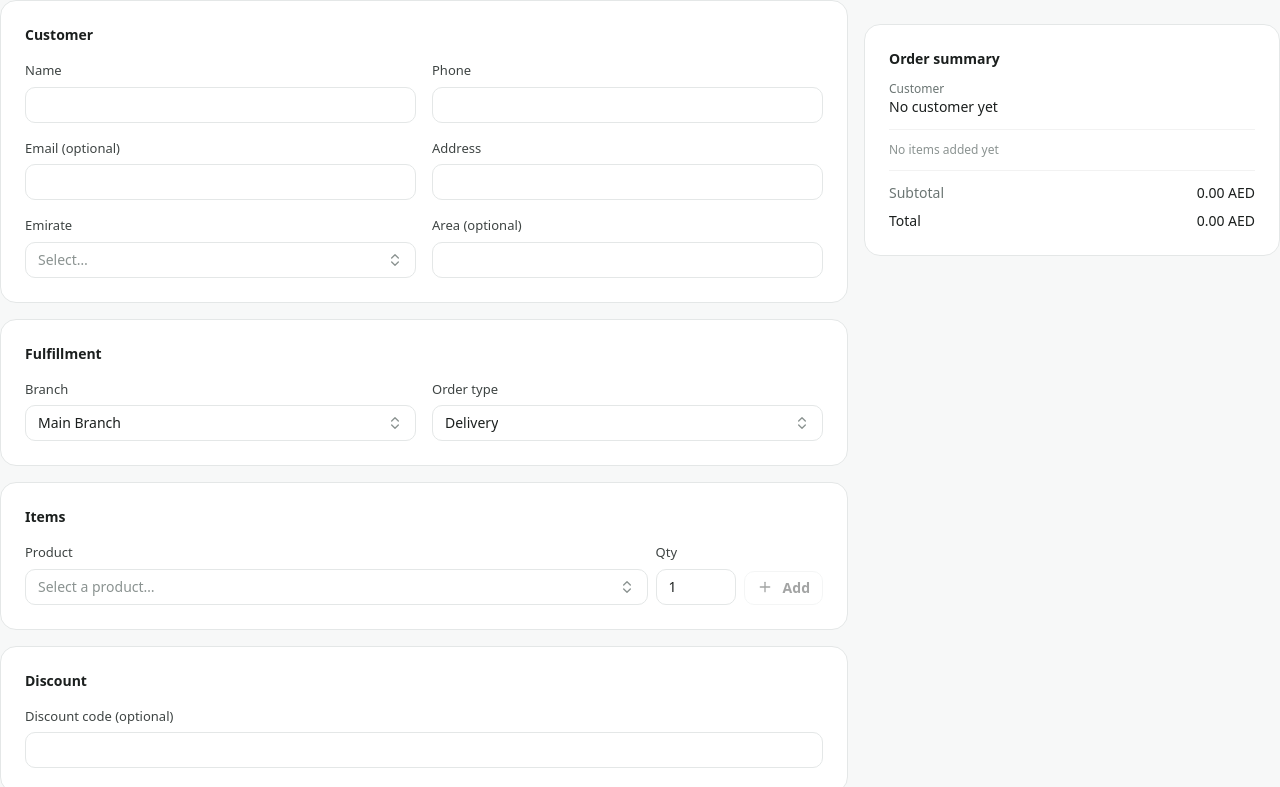
DraftOrderBuilder › adds an item via the Product combobox
Click the dropdown labelled "Select a product…". click: (96, 586)
box: x1=25 y1=568 x2=648 y2=604
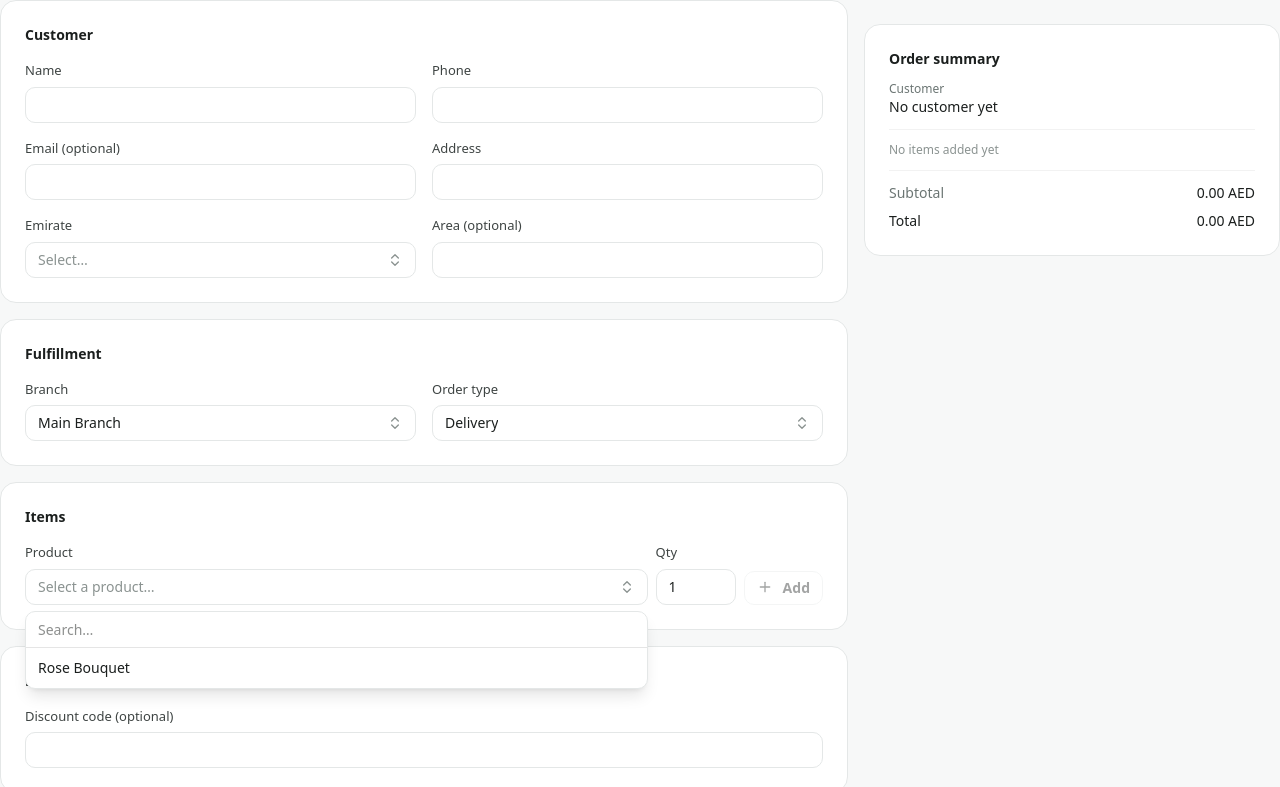
Click the option "Rose Bouquet". click: (84, 667)
box: x1=26 y1=652 x2=647 y2=684
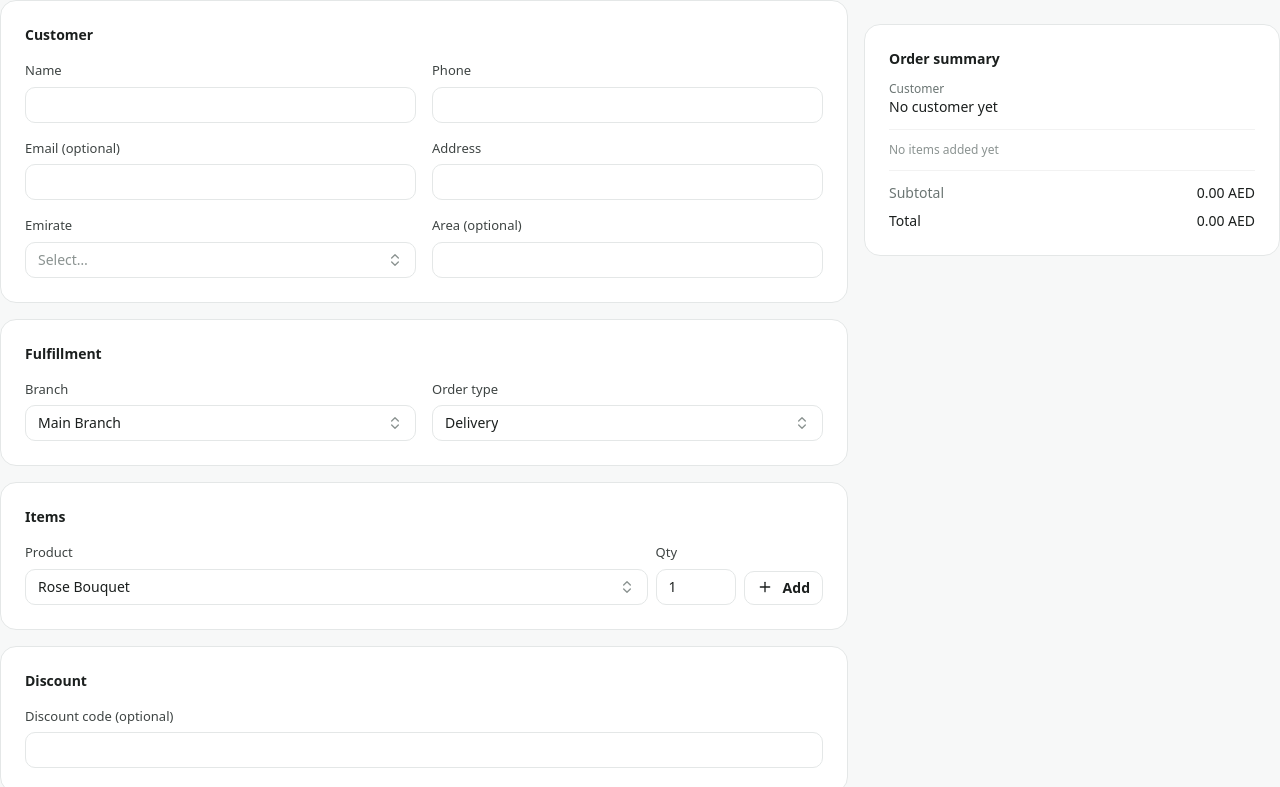
Now the dropdown labelled "Rose Bouquet" is shown, box x1=25 y1=568 x2=648 y2=604
Click the button "Add". click: (783, 588)
box: x1=744 y1=570 x2=823 y2=604
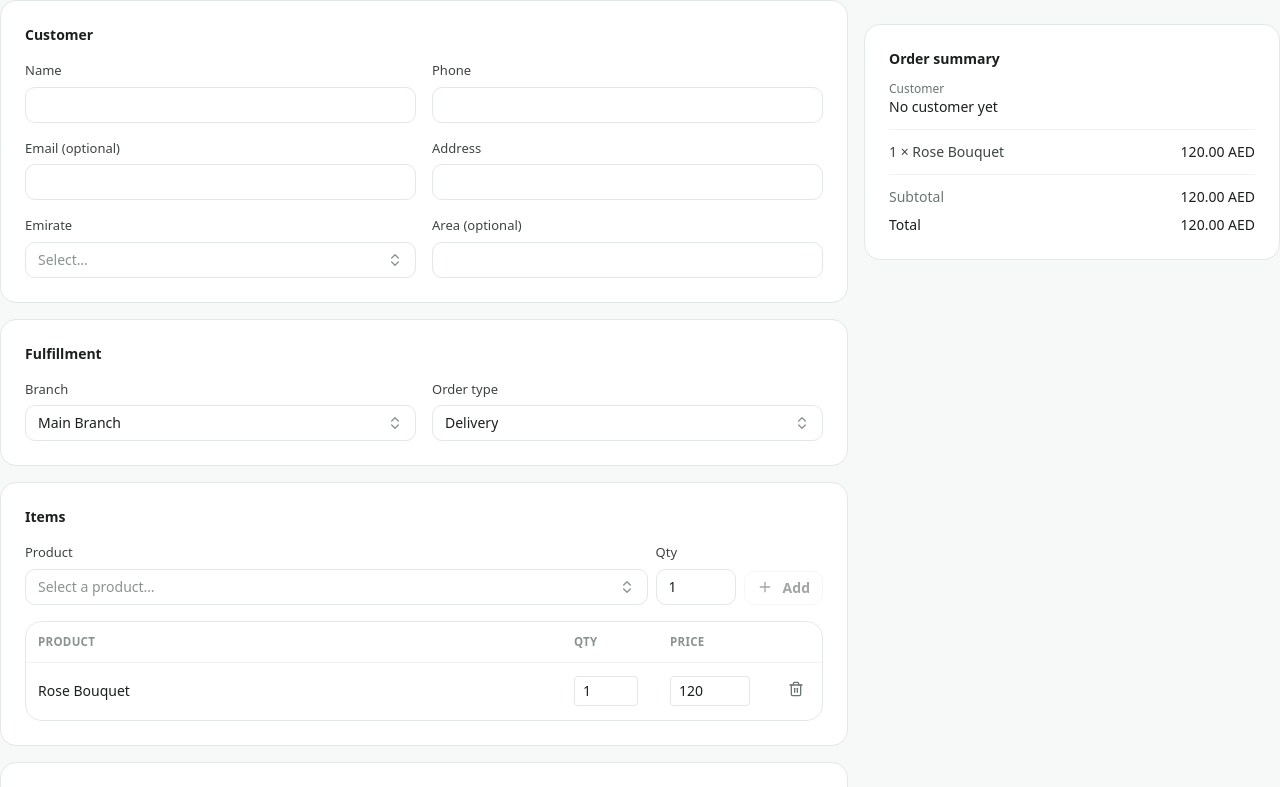
Now the text "Rose Bouquet" is shown, box x1=26 y1=662 x2=562 y2=720
